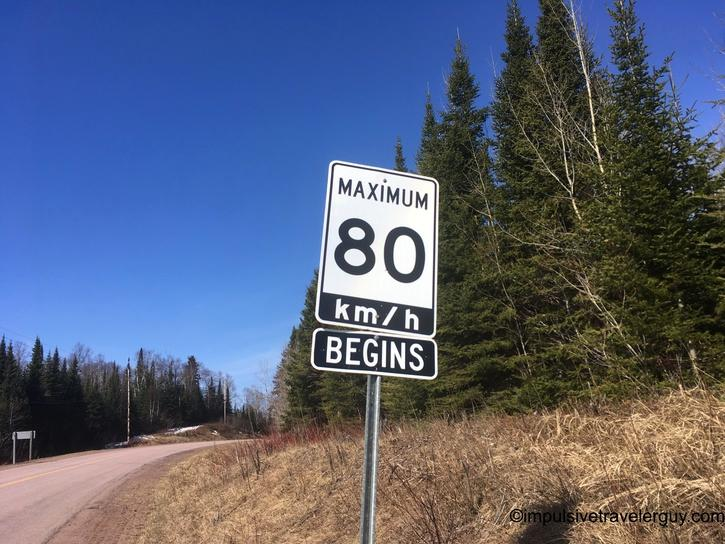speed limit sign: (324, 160, 436, 340)
